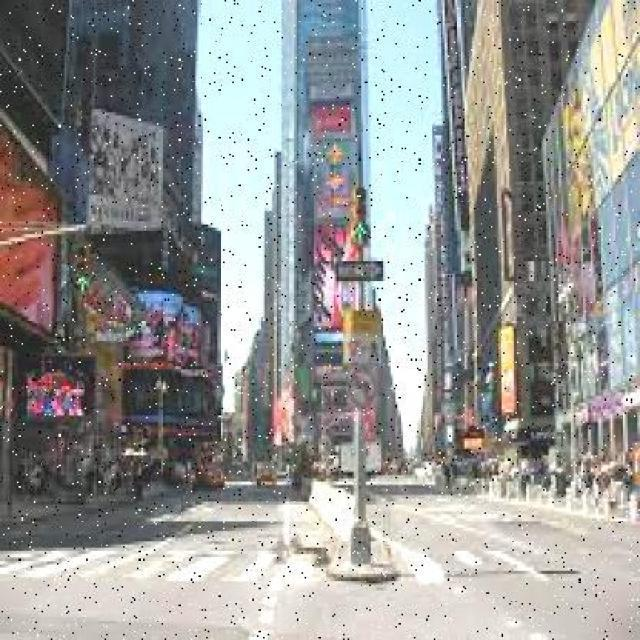crosswalk: (2, 542, 336, 595), (442, 533, 640, 578)
